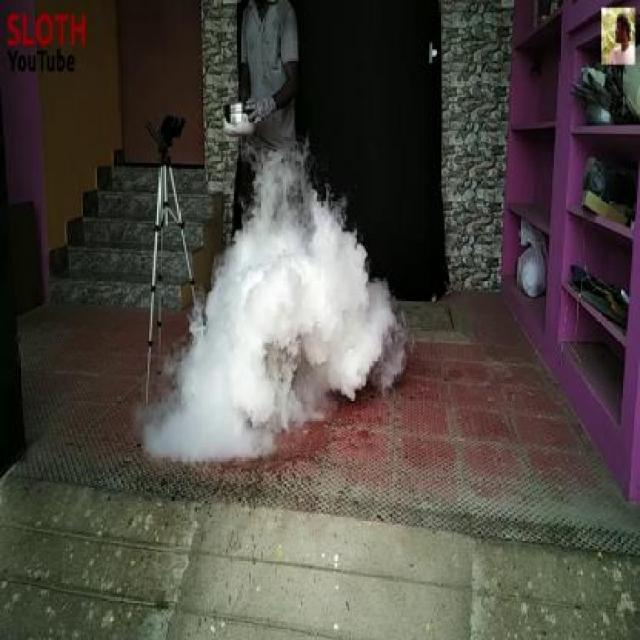smoke: (252, 162, 426, 380), (148, 278, 349, 450)
